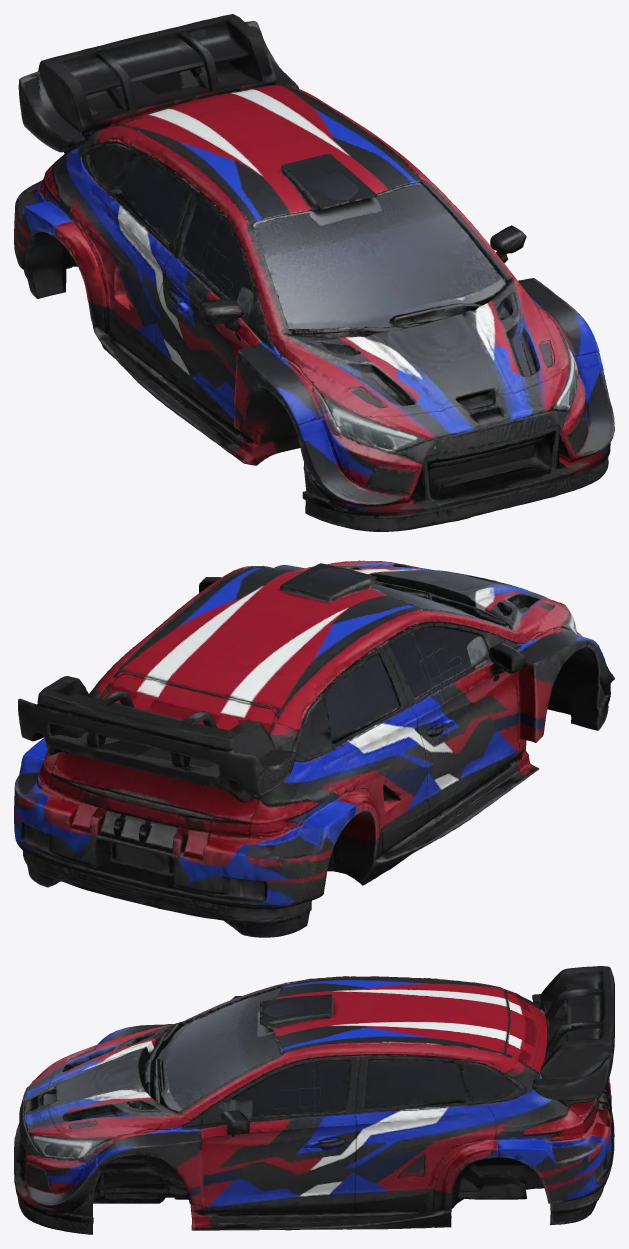
File: car_shadowfire_rs_opt.glb
3 renders of one model, top to bottom at view 1: azimuth 30°, elevation 25°; view 2: azimuth 150°, elevation 25°; view 3: azimuth 270°, elevation 25°, orthographic. The views are drawn at different scales.
Parts seen in each view (by area): view 1: tmpt4i_efs4obj; view 2: tmpt4i_efs4obj; view 3: tmpt4i_efs4obj.
Part boxes in pixels (left/top/right/bottom): tmpt4i_efs4obj: left=14, top=14, right=614, bottom=531; tmpt4i_efs4obj: left=14, top=560, right=614, bottom=937; tmpt4i_efs4obj: left=14, top=966, right=614, bottom=1234.
Bounding box in the file's own units: 0.505 × 0.3206 × 1.
Materials: 1 (1 with a texture image).
